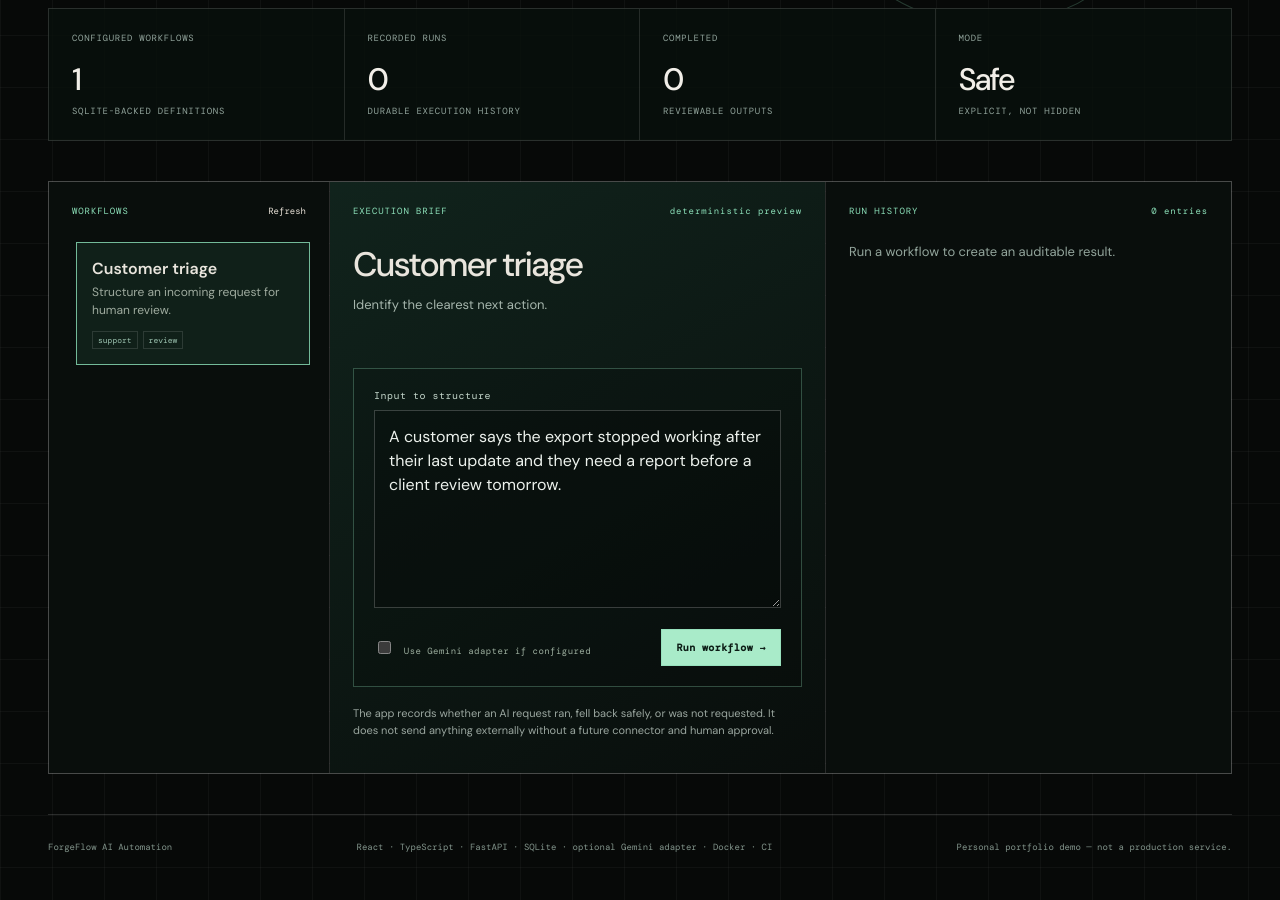
ForgeFlow dashboard › submits an explicit deterministic workflow run
(page scrolled)
expect the button "Customer triage" is shown: met, box [76,242,310,365]
Click the button "Run workflow →". click: (721, 648)
box: [661,629,781,666]
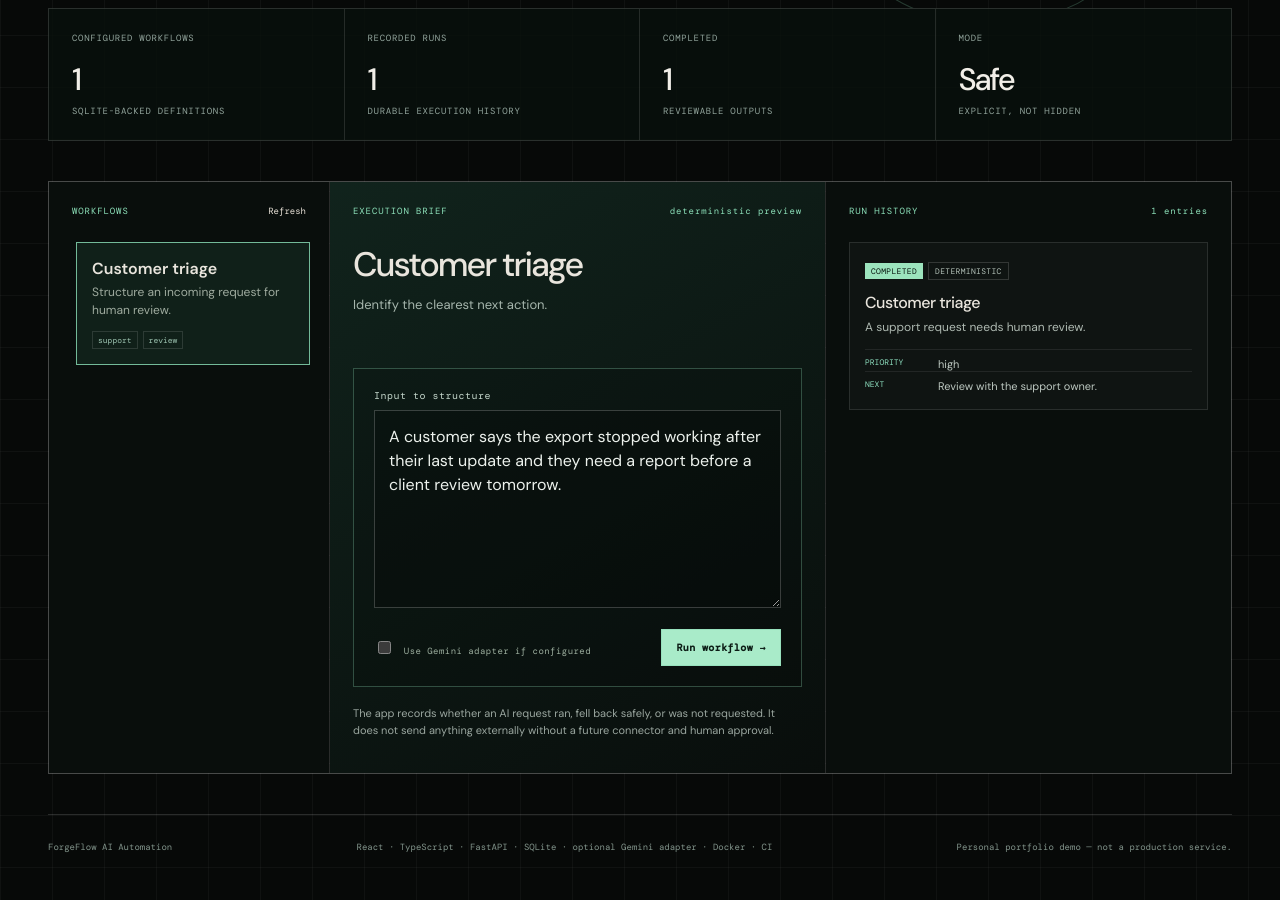
expect the text "A support request needs human review." is shown: met, box [865,319,1086,335]
